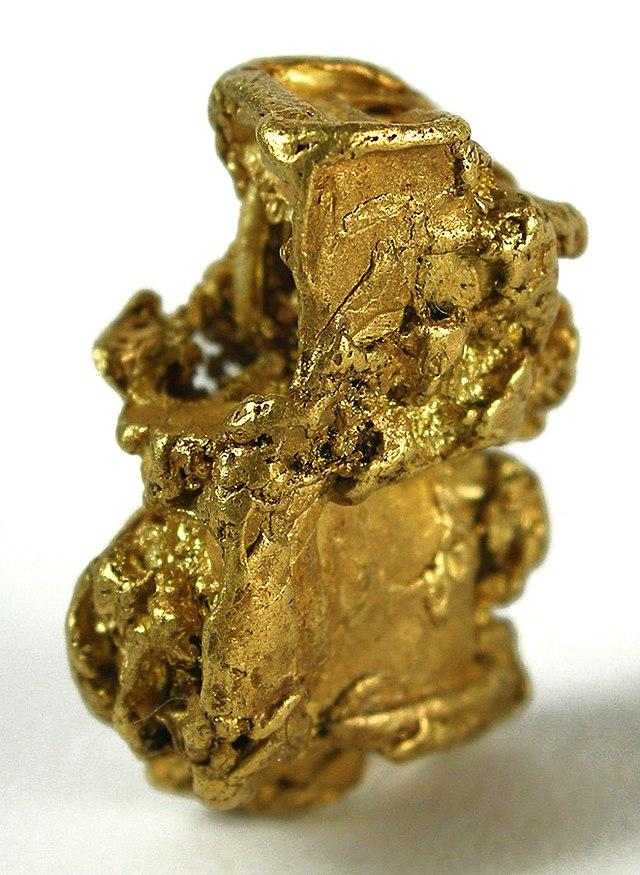gold: (62, 55, 605, 822)
